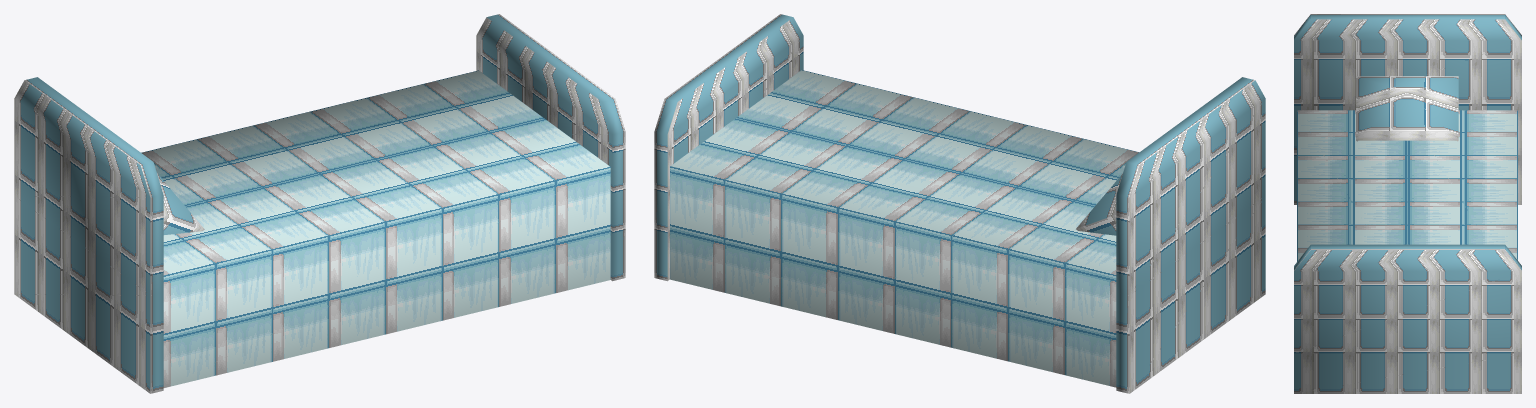
Rendered from 3233IMSD01_19.gltf.
3 views of the same model, side by side, from view 1: azimuth 30°, elevation 25°; view 2: azimuth 150°, elevation 25°; view 3: azimuth 270°, elevation 25° (orthographic). The views are drawn at different scales.
Visible parts, largest first — view 1: 3233IMSD01_19; view 2: 3233IMSD01_19; view 3: 3233IMSD01_19.
Boxes of the visible parts, x1,y1,x2,y2 form: 3233IMSD01_19: (14,14,625,393); 3233IMSD01_19: (654,14,1265,393); 3233IMSD01_19: (1294,14,1521,393).
Bounding box in the file's own units: 1.94 × 0.863 × 0.9602.
2 materials, 2 textured.
